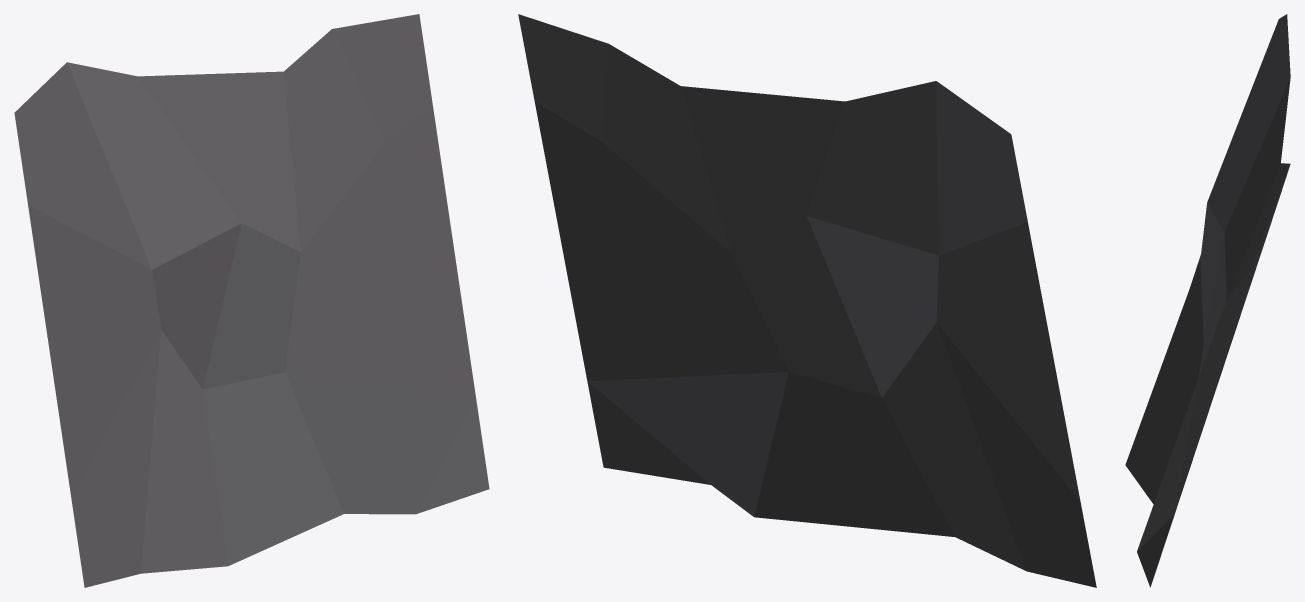
The model's file is mesh_nature_cliff_bottom_02.fbx.
3 renders of one model, left to right at view 1: azimuth 30°, elevation 25°; view 2: azimuth 150°, elevation 25°; view 3: azimuth 270°, elevation 25°, orthographic. The views are drawn at different scales.
Parts seen in each view (by area): view 1: mesh_nature_cliff_bottom_02; view 2: mesh_nature_cliff_bottom_02; view 3: mesh_nature_cliff_bottom_02.
Boxes of the visible parts, box(x1,y1,x2,y2) form: mesh_nature_cliff_bottom_02: box(14, 14, 489, 587); mesh_nature_cliff_bottom_02: box(518, 14, 1096, 587); mesh_nature_cliff_bottom_02: box(1125, 14, 1290, 587).
Bounding box in the file's own units: 200 × 216 × 77.24.
